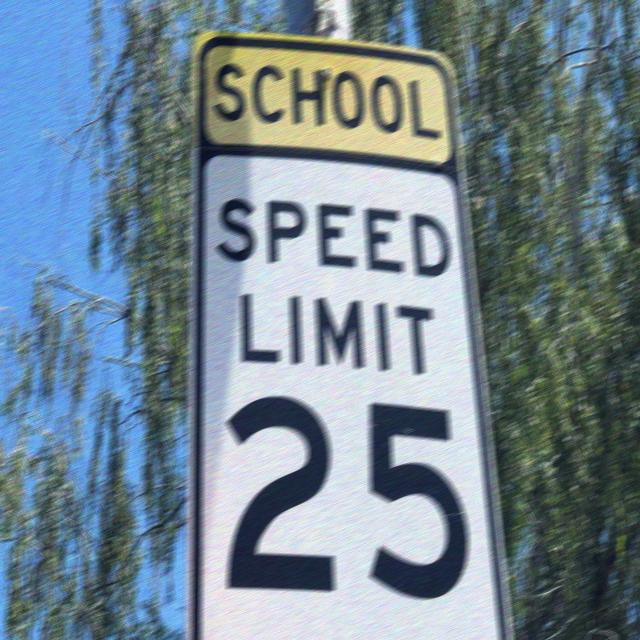speedLimit25: (194, 152, 515, 636)
